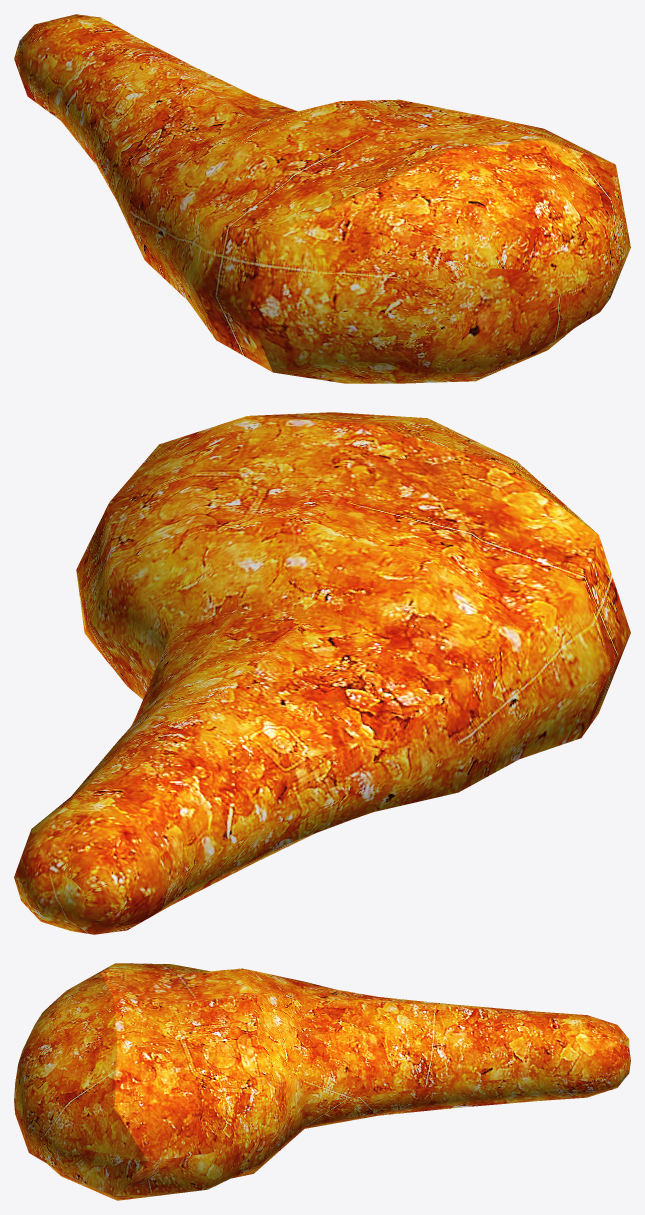
The model's file is friedchicken_00.FBX.
The picture shows the model from 3 angles, top to bottom: view 1: azimuth 30°, elevation 25°; view 2: azimuth 150°, elevation 25°; view 3: azimuth 270°, elevation 25°; orthographic projection. The views are drawn at different scales.
Parts seen in each view (by area): view 1: Chicken; view 2: Chicken; view 3: Chicken.
Boxes of the visible parts, <box> form: Chicken: <box>14,14,630,383</box>; Chicken: <box>14,412,630,934</box>; Chicken: <box>14,963,630,1200</box>.
Bounding box in the file's own units: 21.43 × 11.07 × 35.01.
Materials: 1 (1 with a texture image).
